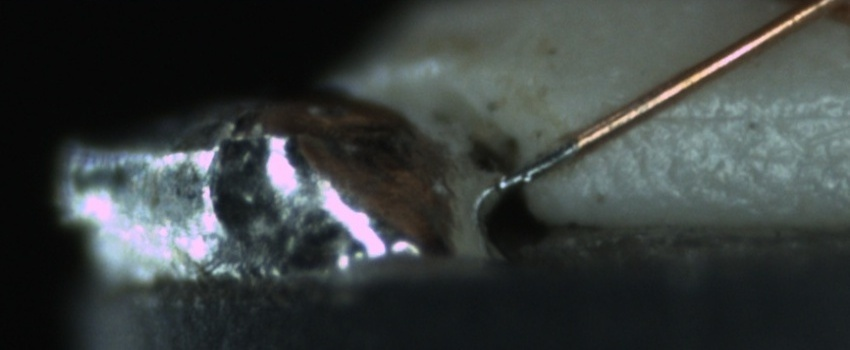CL: (771, 1, 847, 31)
DL: (641, 82, 849, 148)
TS: (497, 140, 578, 192)
